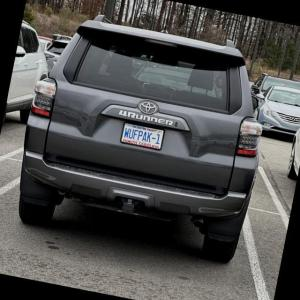Plate: (119, 122, 166, 151)
